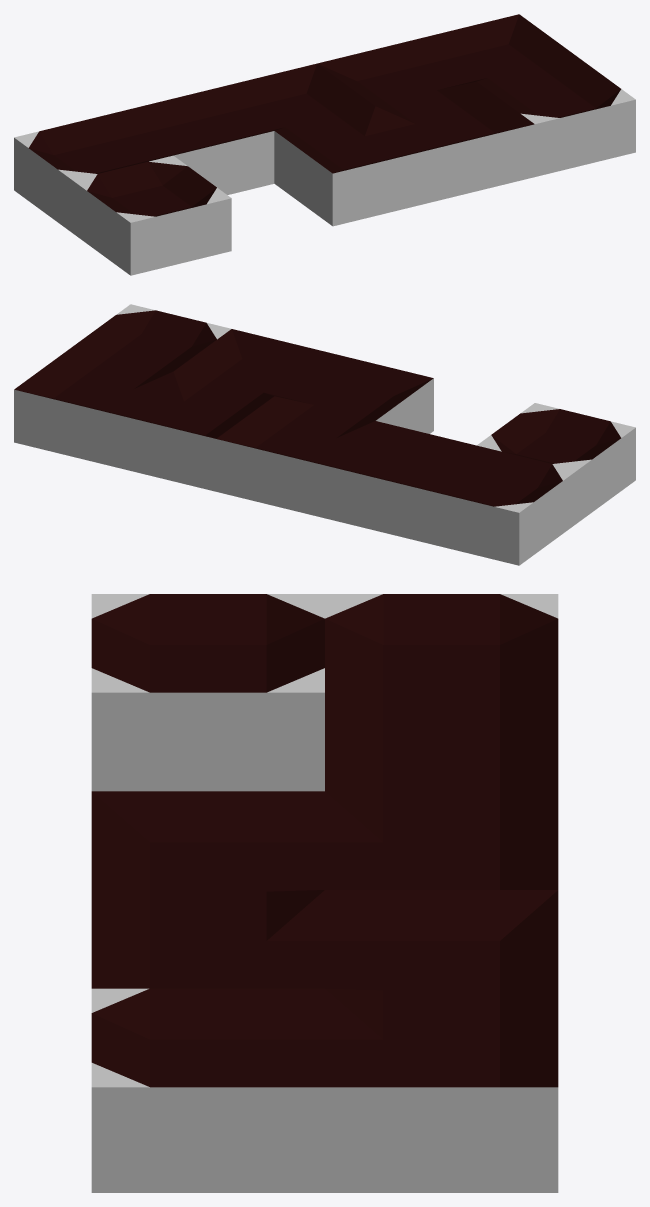
File: 4f_path.obj
3 renders of one model, top to bottom at view 1: azimuth 30°, elevation 25°; view 2: azimuth 150°, elevation 25°; view 3: azimuth 270°, elevation 25°, orthographic. The views are drawn at different scales.
Parts seen in each view (by area): view 1: foil.hole.0.1_Cube.008, foil.corner.2.1_corner.038, foil.corner.3.1_corner.040, foil.ending.4.1_ending.016, foil.through.1.2_through.008, foil.ending.0.2_ending.015, foil.corner.4.2_corner.042, foil.corner.2.2_corner.039, foil.corner.3.2_corner.041; view 2: foil.ending.0.2_ending.015, foil.through.1.2_through.008, foil.corner.2.2_corner.039, foil.corner.4.2_corner.042, foil.corner.3.2_corner.041, foil.hole.0.1_Cube.008, foil.corner.2.1_corner.038, foil.corner.3.1_corner.040, foil.ending.4.1_ending.016; view 3: foil.ending.4.1_ending.016, foil.hole.0.1_Cube.008, foil.corner.4.2_corner.042, foil.corner.2.1_corner.038, foil.ending.0.2_ending.015, foil.corner.3.2_corner.041, foil.through.1.2_through.008, foil.corner.3.1_corner.040, foil.corner.2.2_corner.039.
Part boxes in pixels (x1,y1,x2,y2): foil.hole.0.1_Cube.008: (72, 155, 231, 275); foil.corner.2.1_corner.038: (274, 106, 433, 226); foil.corner.3.1_corner.040: (376, 81, 534, 201); foil.ending.4.1_ending.016: (477, 57, 635, 176); foil.through.1.2_through.008: (115, 88, 274, 194); foil.ending.0.2_ending.015: (14, 113, 170, 232); foil.corner.4.2_corner.042: (418, 14, 577, 88); foil.corner.2.2_corner.039: (216, 63, 375, 137); foil.corner.3.2_corner.041: (317, 39, 475, 113); foil.ending.0.2_ending.015: (418, 445, 577, 565); foil.through.1.2_through.008: (317, 421, 476, 540); foil.corner.2.2_corner.039: (216, 396, 374, 516); foil.corner.4.2_corner.042: (14, 347, 172, 466); foil.corner.3.2_corner.041: (115, 372, 273, 491); foil.hole.0.1_Cube.008: (477, 403, 635, 522); foil.corner.2.1_corner.038: (275, 353, 433, 433); foil.corner.3.1_corner.040: (173, 329, 332, 403); foil.ending.4.1_ending.016: (72, 304, 231, 378); foil.ending.4.1_ending.016: (91, 988, 324, 1192); foil.hole.0.1_Cube.008: (91, 594, 324, 791); foil.corner.4.2_corner.042: (325, 988, 558, 1192); foil.corner.2.1_corner.038: (91, 791, 324, 916); foil.ending.0.2_ending.015: (325, 594, 558, 718); foil.corner.3.2_corner.041: (325, 890, 558, 1014); foil.through.1.2_through.008: (325, 693, 558, 817); foil.corner.3.1_corner.040: (91, 890, 324, 988); foil.corner.2.2_corner.039: (325, 791, 558, 889).
Bounding box in the file's own units: 10 × 1 × 4.
